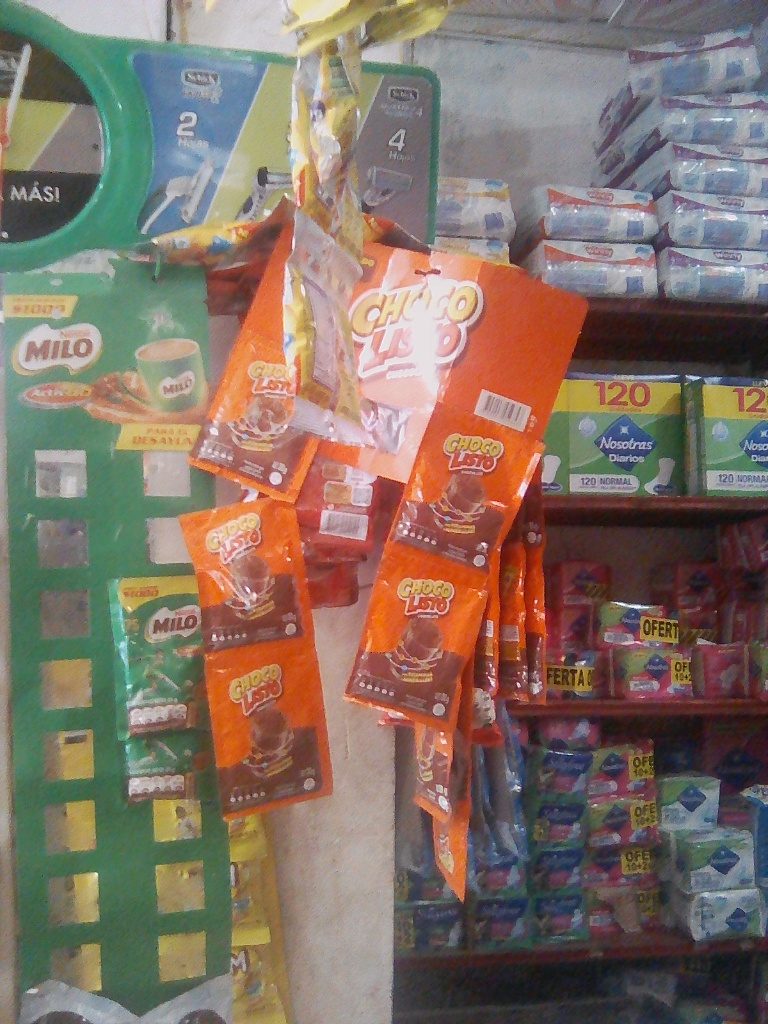COL0170103SOB02000: (411, 394, 547, 566)
